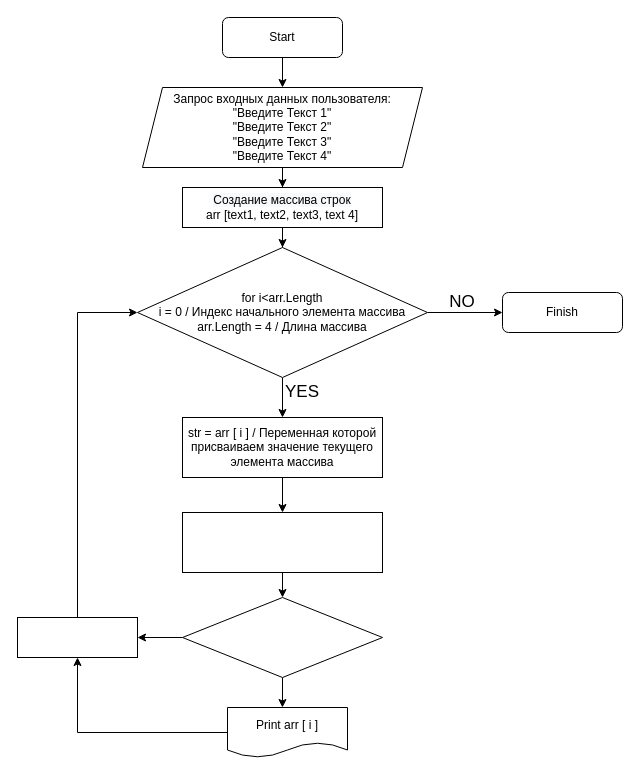
The diagram is 640 pixels wide and 775 high, and some of its shapes have lost their labels. The shapes that lost their labels are listed below. From the top down, each one's box as (x1, y1, x2, y2) in pixels, then its label:
(182, 512, 382, 572): str / Получаем значение количества символов i-го элемента массива
(16, 616, 138, 658): i = i +1
(182, 596, 382, 678): if str.Length <= 3
